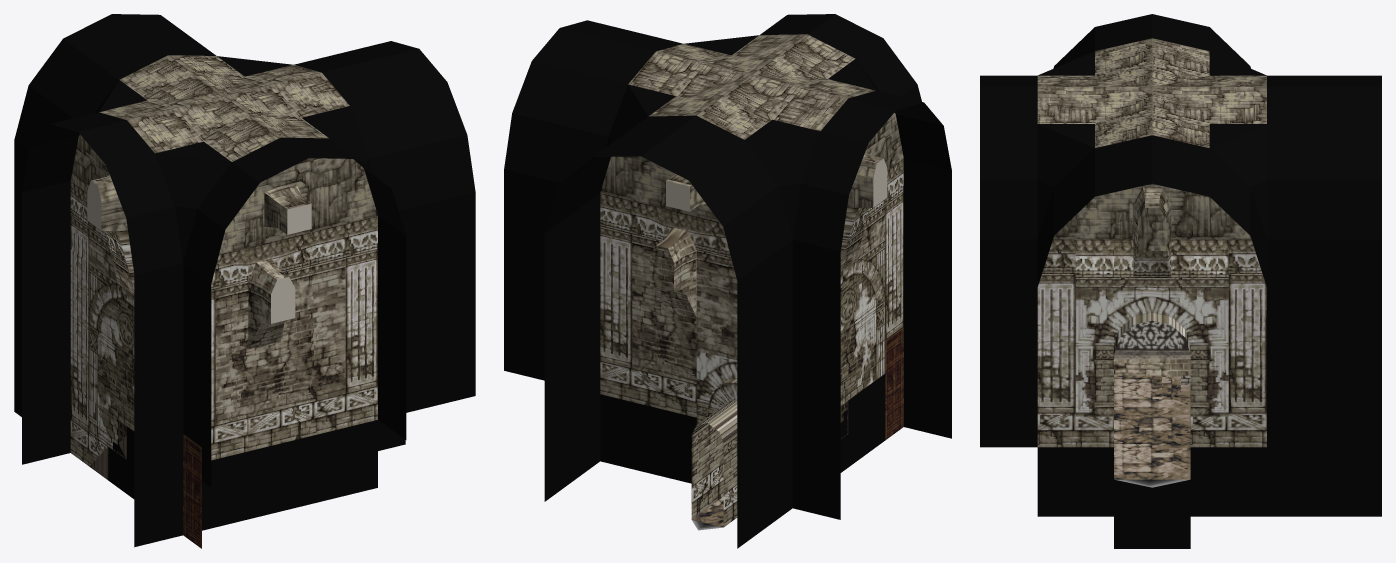
File: MAP058.obj
The picture shows the model from 3 angles, left to right: view 1: azimuth 30°, elevation 25°; view 2: azimuth 150°, elevation 25°; view 3: azimuth 270°, elevation 25°; orthographic projection. The views are drawn at different scales.
Visible parts, largest first — view 1: mesh_47, mesh_43, mesh_45, mesh_21, mesh_38, mesh_41, mesh_39, mesh_23, mesh_22, mesh_24, mesh_26, mesh_28 (+10 smaller); view 2: mesh_41, mesh_47, mesh_43, mesh_38, mesh_11, mesh_9, mesh_26, mesh_40, mesh_12, mesh_45, mesh_8, mesh_48 (+12 smaller); view 3: mesh_41, mesh_45, mesh_38, mesh_39, mesh_14, mesh_15, mesh_43, mesh_18, mesh_17, mesh_6, mesh_47, mesh_44 (+5 smaller).
Boxes of the visible parts, bbox=[...] form: mesh_47: bbox=[22, 112, 183, 547]; mesh_43: bbox=[294, 41, 475, 412]; mesh_45: bbox=[183, 137, 406, 487]; mesh_21: bbox=[215, 258, 345, 425]; mesh_38: bbox=[99, 55, 349, 161]; mesh_41: bbox=[14, 14, 216, 416]; mesh_39: bbox=[202, 420, 405, 530]; mesh_23: bbox=[211, 216, 377, 460]; mesh_22: bbox=[219, 158, 377, 254]; mesh_24: bbox=[211, 203, 377, 426]; mesh_26: bbox=[89, 263, 134, 430]; mesh_28: bbox=[70, 181, 101, 432]; mesh_41: bbox=[544, 115, 792, 548]; mesh_47: bbox=[792, 91, 951, 519]; mesh_43: bbox=[504, 20, 682, 380]; mesh_38: bbox=[628, 34, 875, 139]; mesh_11: bbox=[632, 227, 737, 383]; mesh_9: bbox=[600, 193, 731, 417]; mesh_26: bbox=[840, 239, 885, 405]; mesh_40: bbox=[632, 387, 866, 483]; mesh_12: bbox=[600, 181, 689, 368]; mesh_45: bbox=[760, 14, 921, 101]; mesh_8: bbox=[691, 351, 737, 459]; mesh_48: bbox=[745, 119, 820, 238]; mesh_41: bbox=[1267, 75, 1381, 516]; mesh_45: bbox=[980, 75, 1037, 447]; mesh_38: bbox=[1037, 38, 1266, 147]; mesh_39: bbox=[1037, 447, 1266, 548]; mesh_14: bbox=[1075, 278, 1228, 416]; mesh_15: bbox=[1037, 239, 1266, 447]; mesh_43: bbox=[1037, 135, 1266, 286]; mesh_18: bbox=[1037, 274, 1266, 412]; mesh_17: bbox=[1053, 183, 1251, 250]; mesh_6: bbox=[1114, 375, 1190, 479]; mesh_47: bbox=[1053, 14, 1250, 68]; mesh_44: bbox=[1037, 124, 1094, 237].
Size of the model in its own units: 134 by 141 by 134.
Materials: 14 (14 with a texture image).
